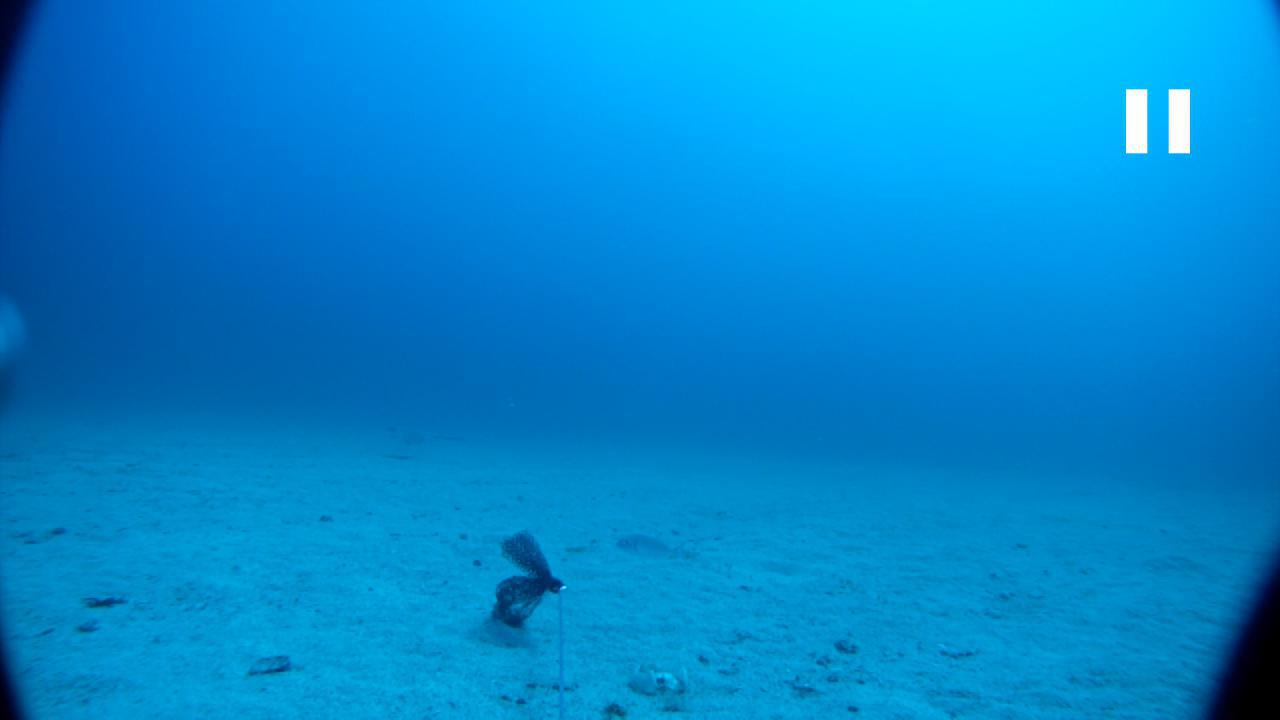dasyatis: (382, 424, 462, 442)
pagellus: (612, 534, 702, 564)
